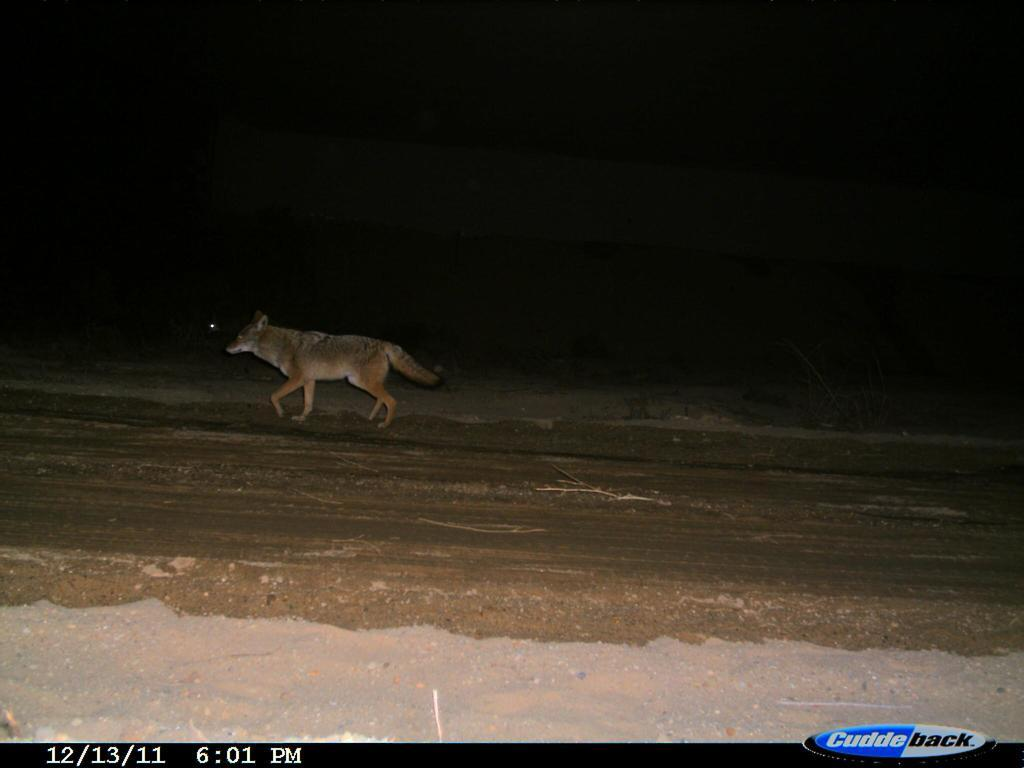coyote: (208, 301, 468, 441)
